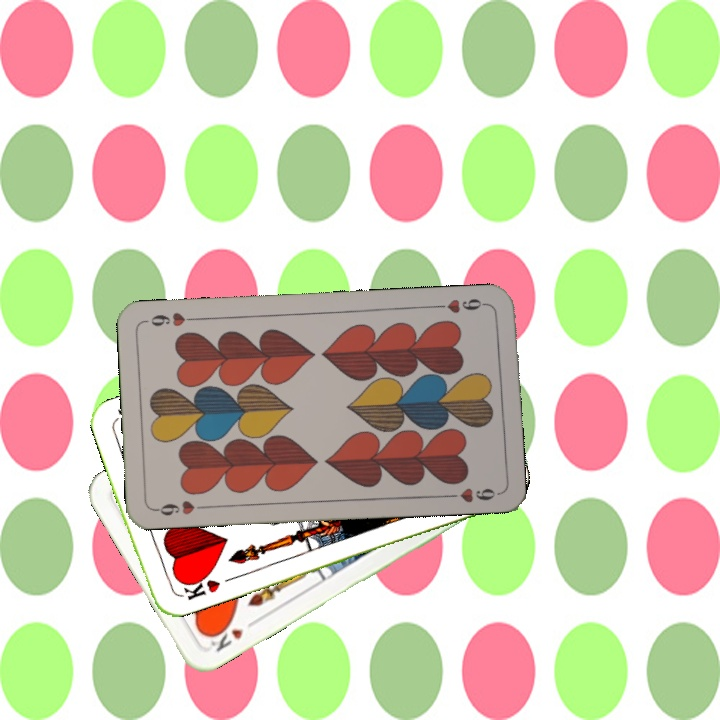H9: (151, 497, 210, 519), (431, 295, 491, 316)
HK: (202, 615, 259, 655), (177, 569, 223, 603)
